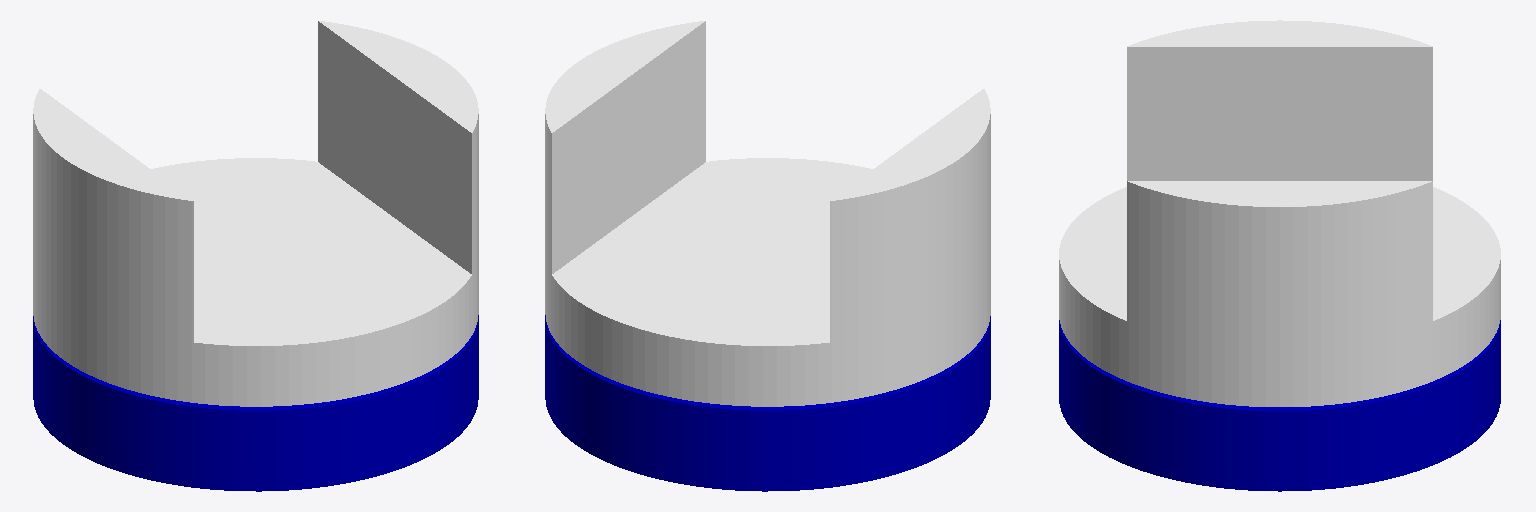
The robot description file, URDF, robot "visual":
<?xml version="1.0"?>
<robot name="visual">


<material name="blue">
    <color rgba="0 0 0.8 1"/>
  </material>
  <material name="black">
    <color rgba="0 0 0 1"/>
  </material>
  <material name="white">
    <color rgba="1 1 1 1"/>
  </material>

  <link name="base_link">
    <visual>
      <geometry>
      <mesh filename="base1.stl"/>
      </geometry>
      <material name="blue"/>
    </visual>
    <collision>
      <geometry>
      <mesh filename="base1.stl"/>
      </geometry>
    </collision>
    <inertial>
      <mass value="10"/>
      <inertia ixx="1.0" ixy="0.0" ixz="0.0" iyy="1.0" iyz="0.0" izz="1.0"/>
    </inertial>
  </link>

  <link name="base_moving">
    <visual>
      <geometry>
      <mesh filename="base_moving.stl"/>
      </geometry>
      <origin rpy="0 0 0" xyz="0 0 0"/>
      <material name="white"/>
    </visual>
    <collision>
      <geometry>
      <mesh filename="base_moving.stl"/>
      </geometry>
      <origin rpy="0 0 0" xyz="0 0 0"/>
    </collision>
    <inertial>
      <mass value="10"/>
      <inertia ixx="1.0" ixy="0.0" ixz="0.0" iyy="1.0" iyz="0.0" izz="1.0"/>
    </inertial>
  </link>
  <joint name="base_to_base_moving" type="revolute">
    <axis xyz="0 1 0"/>
    <limit effort="1000.0" lower="0.0" upper="0.548" velocity="0.5"/>
    <parent link="base_link"/>
    <child link="base_moving"/>
    <origin xyz="0 0 0"/>
  </joint>

</robot>

--- What the picture shows (computed from the rendered views, not written in the file) ---
3 views of the same robot in one strip: view 1: azimuth 30°, elevation 25°; view 2: azimuth 150°, elevation 25°; view 3: azimuth 270°, elevation 25° (orthographic).
Model visual with 2 links and 1 joints (1 revolute), rooted at base_link, posed all joints at 0.
Visible links, largest first — view 1: base_moving, base_link; view 2: base_moving, base_link; view 3: base_moving, base_link.
Boxes of the visible links, box(x1,y1,x2,y2) form: base_moving: box(33, 21, 478, 406); base_link: box(33, 315, 478, 491); base_moving: box(545, 21, 990, 406); base_link: box(545, 315, 990, 491); base_moving: box(1059, 20, 1500, 406); base_link: box(1059, 320, 1500, 491).
Size in the robot's own frame: 1 by 1 by 0.71 metres.
2 mesh visuals loaded from 2 distinct referenced files (2 binary STL).